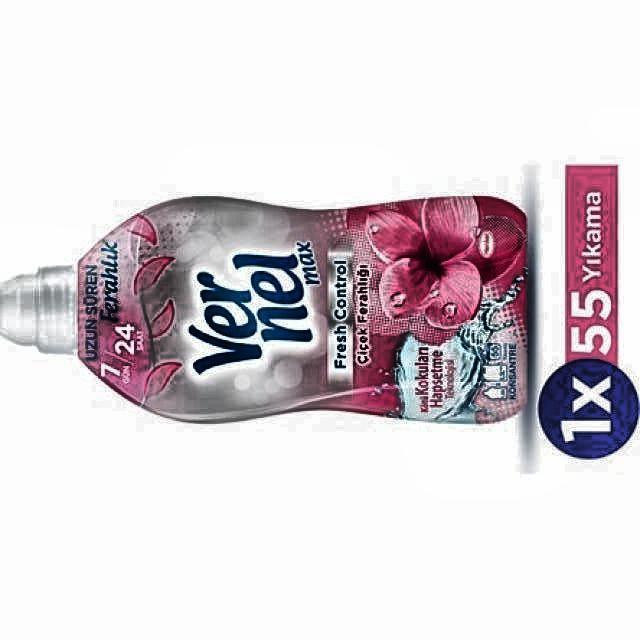plastic: (0, 196, 528, 422)
